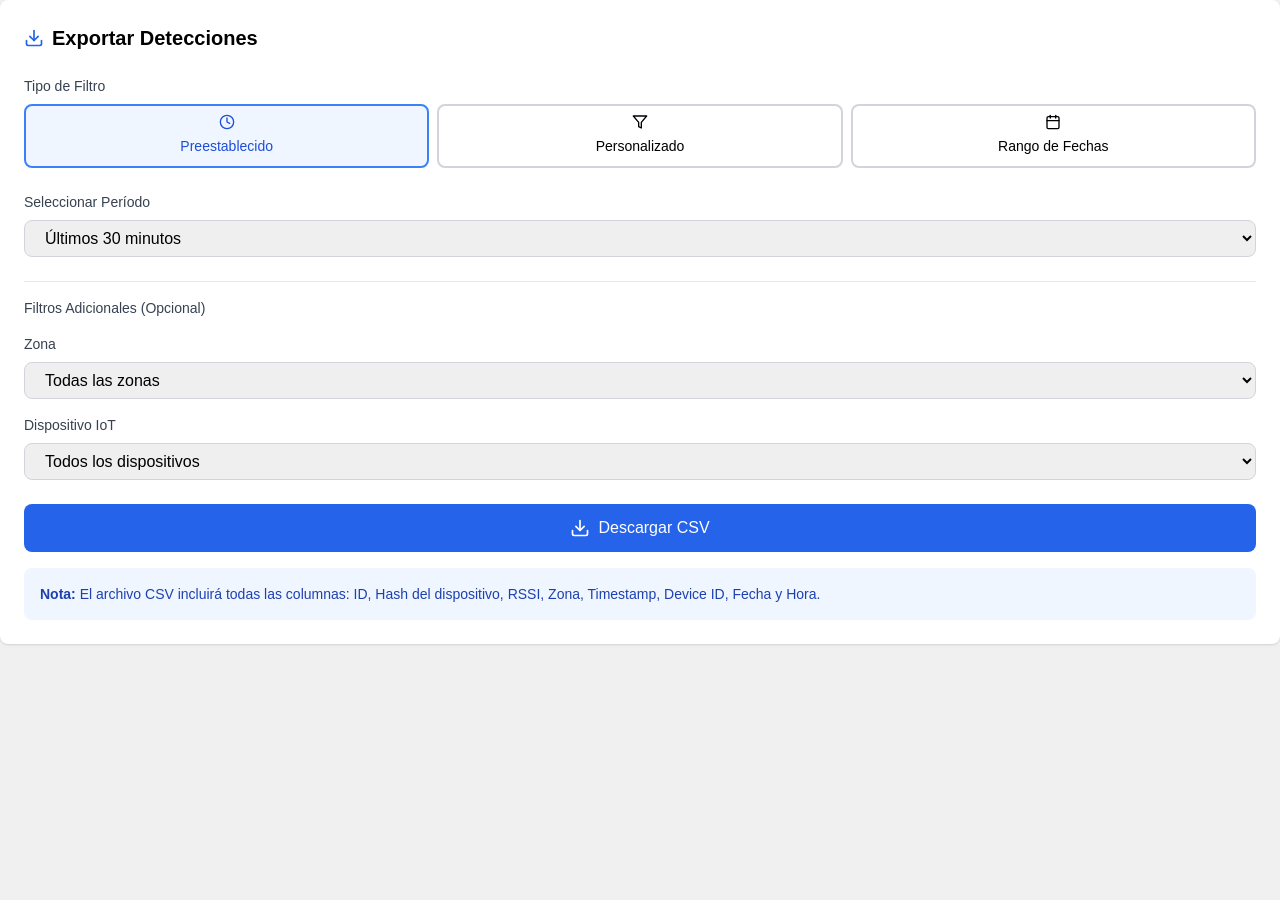
Test: ExportFilters Component › debe cambiar entre modos de filtro y mostrar los inputs correctos
The width and height of the screenshot is (1280, 900).
expect the text "Seleccionar Período" is shown: met, box [24, 194, 150, 210]
Click the button "Personalizado" at {"x": 640, "y": 136}, box [437, 104, 843, 168]
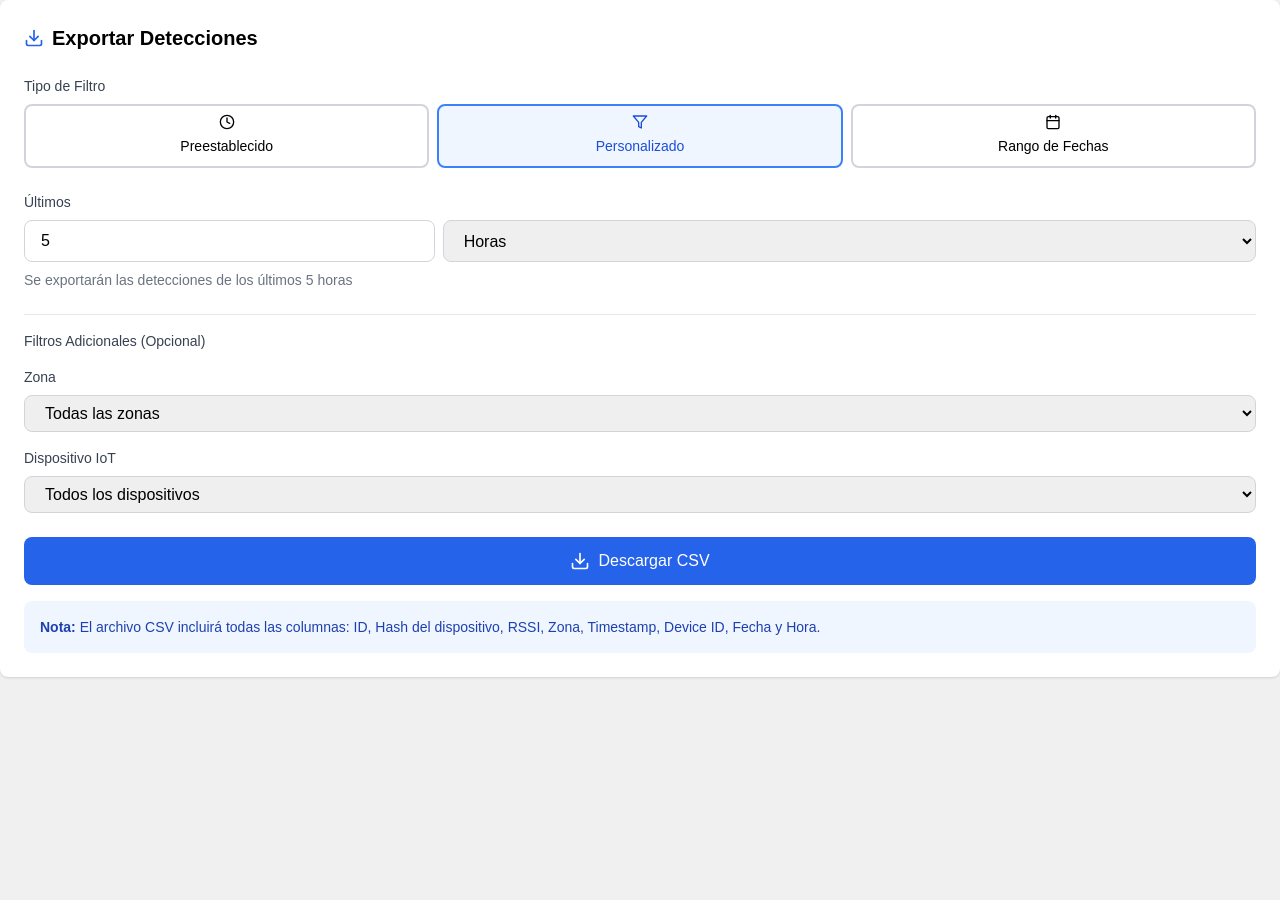
expect the field with placeholder "Cantidad" is shown: met, box [24, 220, 435, 262]
Click the button "Rango de Fechas" at {"x": 1053, "y": 136}, box [851, 104, 1256, 168]
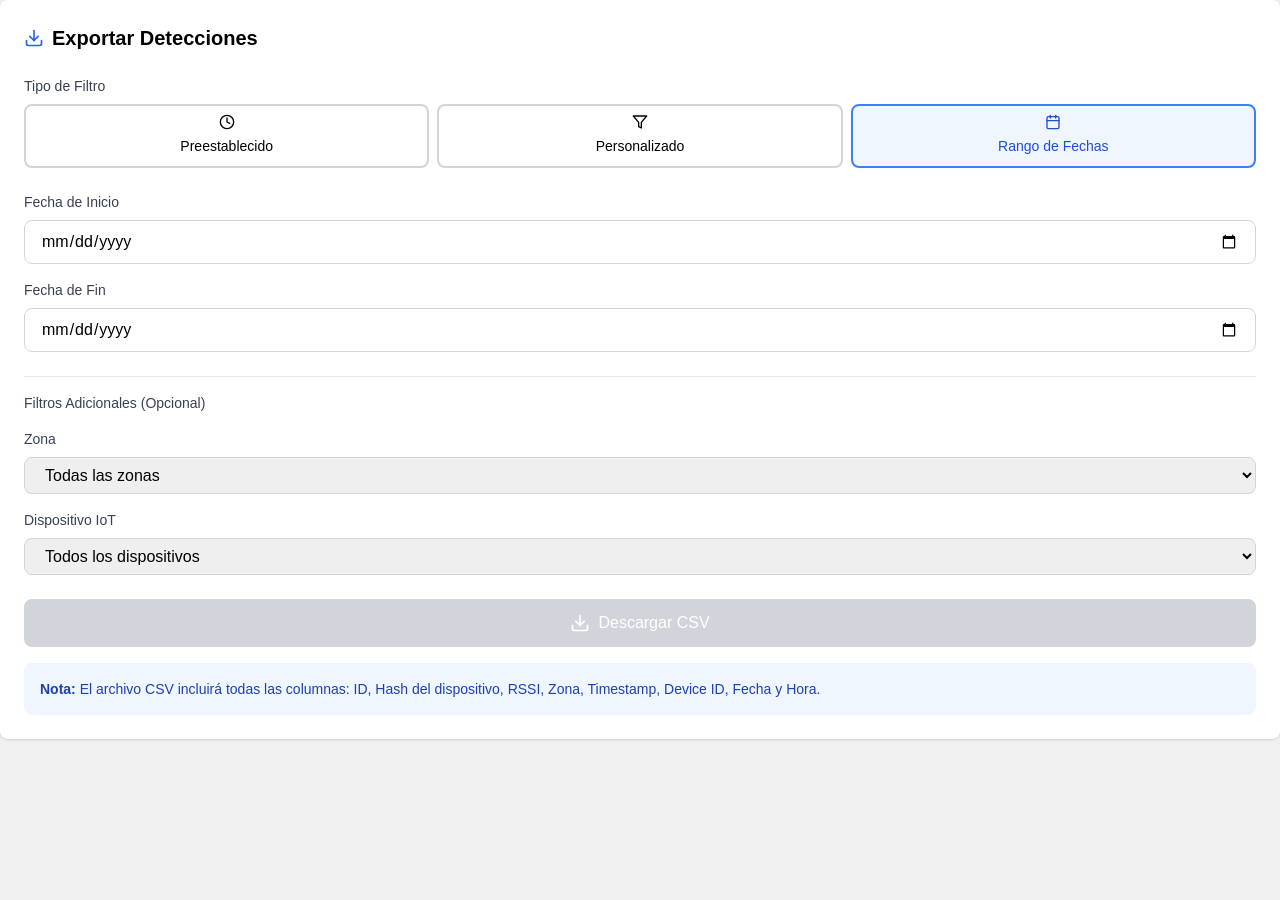
expect the text "Fecha de Inicio" is shown: met, box [24, 194, 119, 210]
